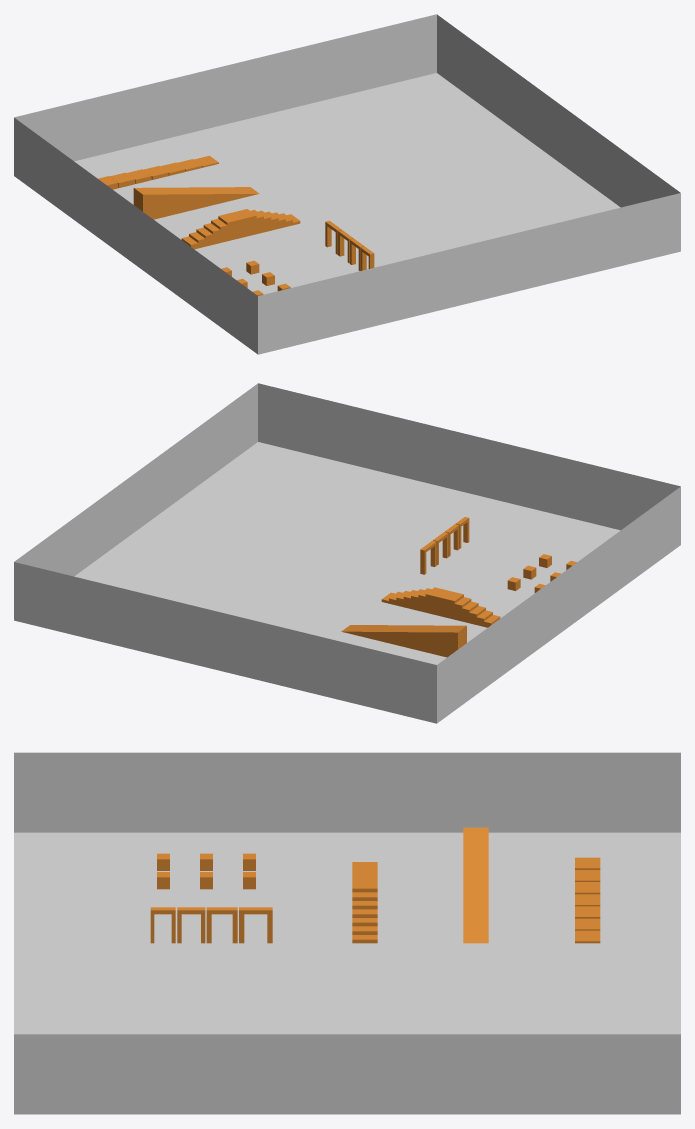
Rendered from Test_Map_(1).fbx.
3 renders of one model, top to bottom at view 1: azimuth 30°, elevation 25°; view 2: azimuth 150°, elevation 25°; view 3: azimuth 270°, elevation 25°, orthographic. The views are drawn at different scales.
Parts seen in each view (by area): view 1: Floor, Wall.003, Wall.002, Wall, Wall.001, Ramp, Stairs; view 2: Floor, Wall.002, Wall.003, Wall, Wall.001, Ramp, Stairs; view 3: Floor, Wall.001, Wall, Ramp, Stairs, Door Frame, Door Frame.001.
Boxes of the visible parts, x1,y1,x2,y2 form: Floor: (74, 73, 620, 294); Wall.003: (258, 193, 680, 354); Wall.002: (14, 14, 436, 161); Wall: (14, 117, 257, 354); Wall.001: (437, 14, 680, 207); Ramp: (133, 187, 259, 219); Stairs: (181, 209, 300, 249); Floor: (74, 442, 620, 664); Wall.002: (14, 562, 436, 723); Wall.003: (258, 383, 680, 530); Wall: (437, 486, 680, 723); Wall.001: (14, 383, 257, 576); Ramp: (341, 625, 466, 657); Stairs: (381, 587, 500, 627); Floor: (14, 832, 680, 1114); Wall.001: (14, 1034, 680, 1114); Wall: (14, 752, 680, 832); Ramp: (463, 827, 488, 943); Stairs: (352, 862, 377, 943); Door Frame: (239, 907, 272, 943); Door Frame.001: (206, 907, 237, 943).
Size of the model in its own units: 5000 by 663 by 5000.
